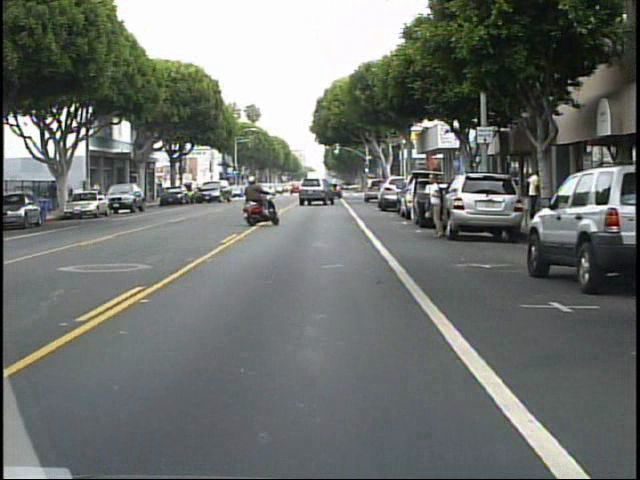person: (239, 171, 275, 222), (425, 169, 447, 239), (525, 166, 543, 226), (47, 177, 62, 213)
